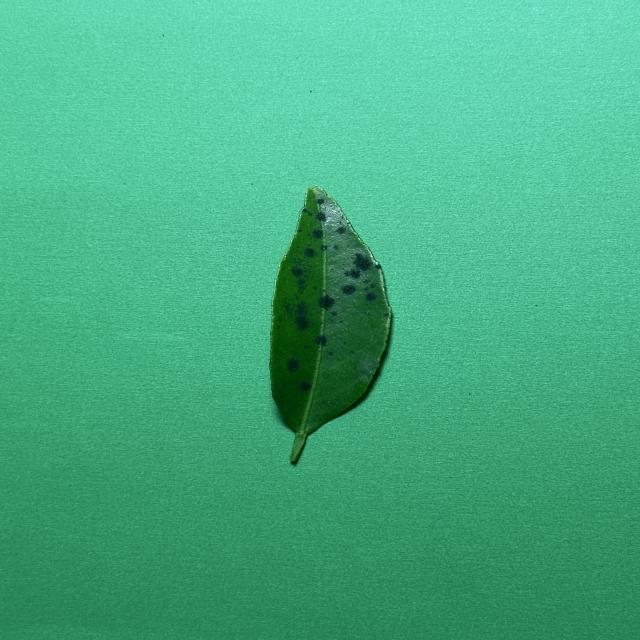sooty_mold: (270, 187, 391, 461)
